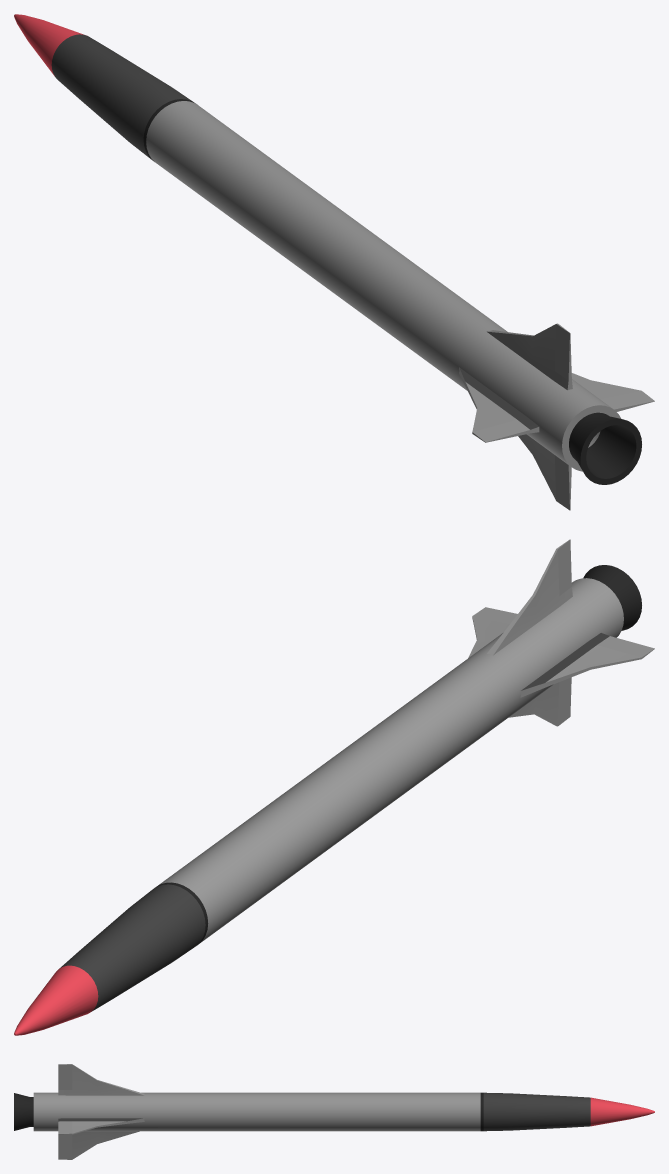
File: missle.fbx
3 renders of one model, top to bottom at view 1: azimuth 30°, elevation 25°; view 2: azimuth 150°, elevation 25°; view 3: azimuth 270°, elevation 25°, orthographic. The views are drawn at different scales.
Parts seen in each view (by area): view 1: Cylinder, Cube, Cylinder.001, Cube.001; view 2: Cylinder, Cube, Cube.001, Cylinder.001; view 3: Cylinder, Cube, Cube.001, Cylinder.001.
Boxes of the visible parts, <box> form: Cylinder: <box>14,14,621,471</box>; Cube: <box>487,323,572,510</box>; Cylinder.001: <box>569,412,641,484</box>; Cube.001: <box>459,367,654,442</box>; Cylinder: <box>14,578,623,1035</box>; Cube: <box>487,539,572,726</box>; Cube.001: <box>468,607,654,697</box>; Cylinder.001: <box>583,565,641,630</box>; Cylinder: <box>33,1092,654,1131</box>; Cube: <box>58,1064,144,1159</box>; Cube.001: <box>58,1118,144,1134</box>; Cylinder.001: <box>14,1093,33,1130</box>.
Size of the model in its own units: 409 by 2491 by 409.
